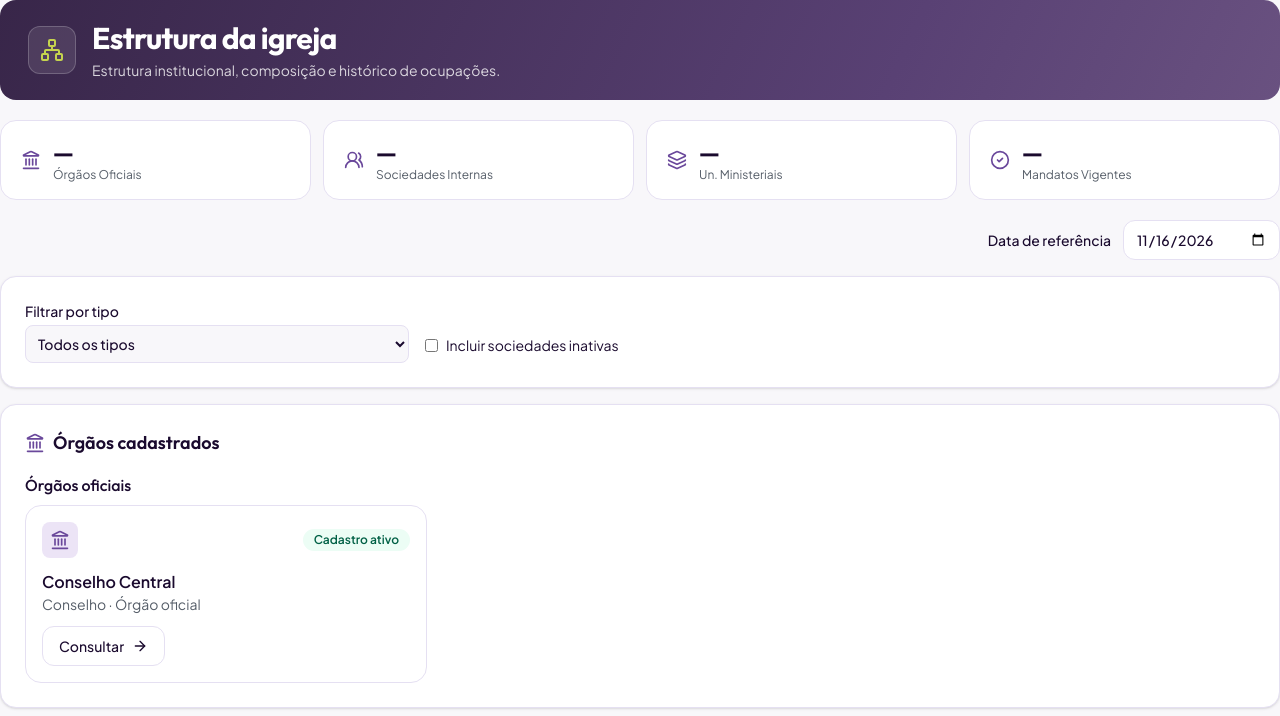
consulta de órgãos › mostra composição, revisão e histórico sem afirmar competência pelo cargo
Check: the text "Conselho Central" is shown, box [42, 571, 176, 592]
Check: the date field labelled "Data de referência" holds "2026-11-16", box [1123, 220, 1279, 260]
Click the button "Consultar": (104, 646) [42, 626, 165, 666]
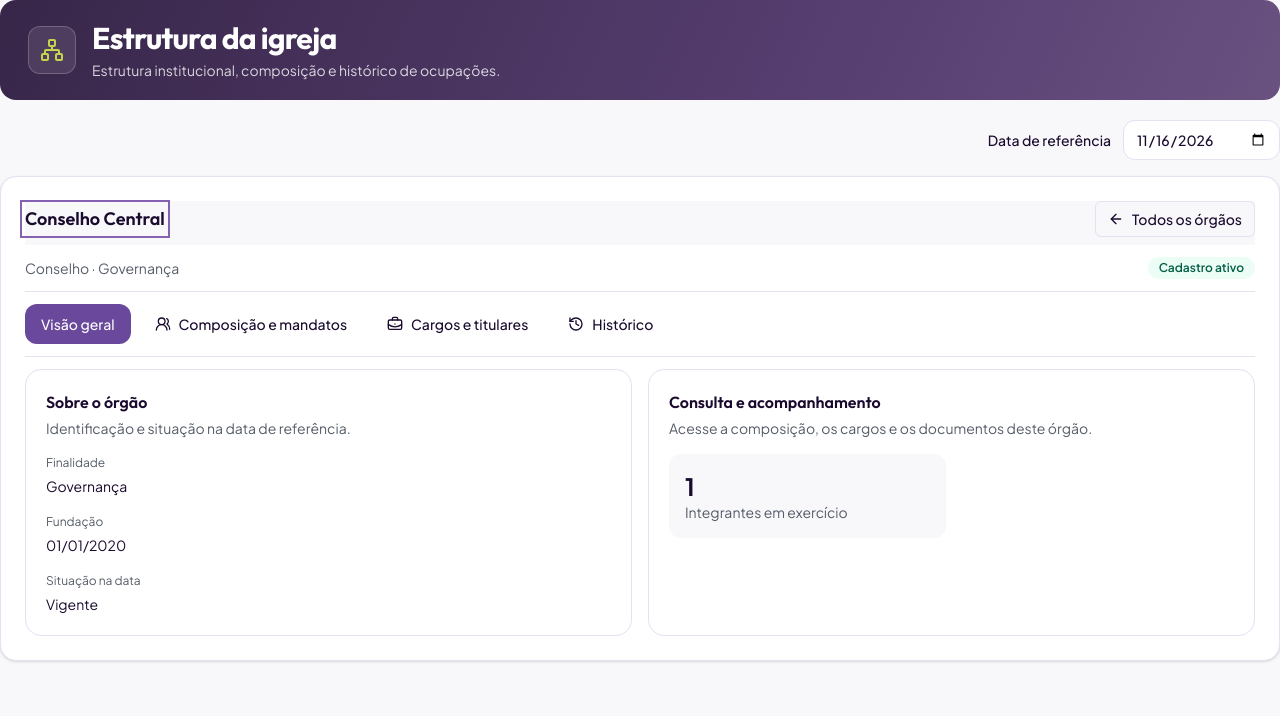
Click the button "Composição e mandatos": (251, 324) [138, 304, 363, 344]
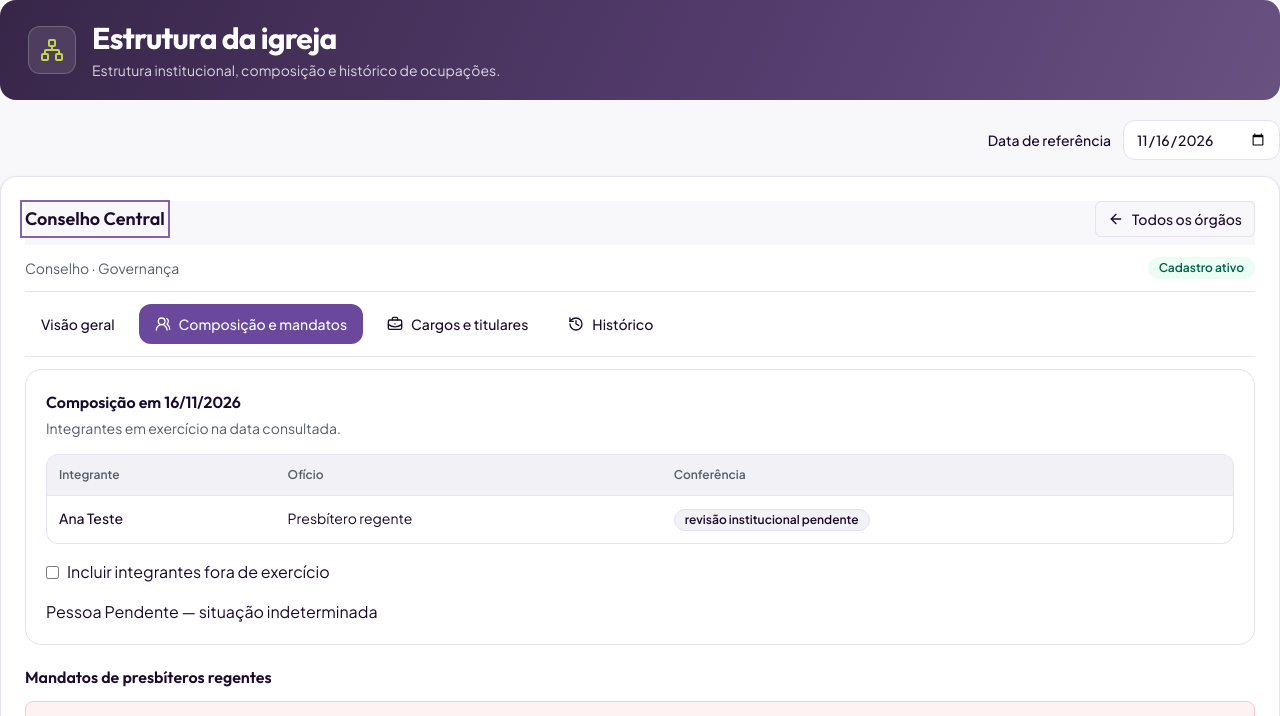
Check: the navigation bar named "Seções da ficha" is shown, box [25, 291, 1255, 357]
Check: the button "Histórico" is shown, box [552, 304, 669, 344]
Check: the table named "Composição do órgão" is shown, box [47, 455, 1233, 543]
Click the button "Visão geral": (78, 324) [25, 304, 130, 344]
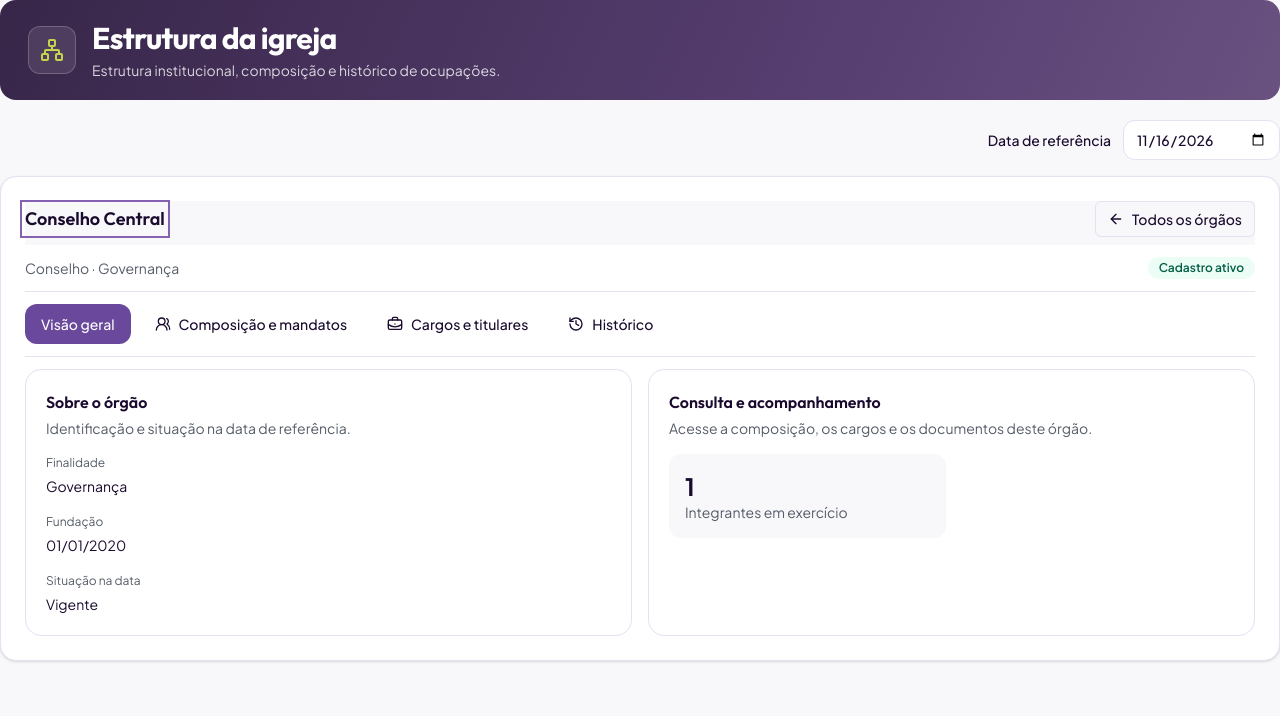
Click the button "Histórico": (611, 324) [552, 304, 669, 344]
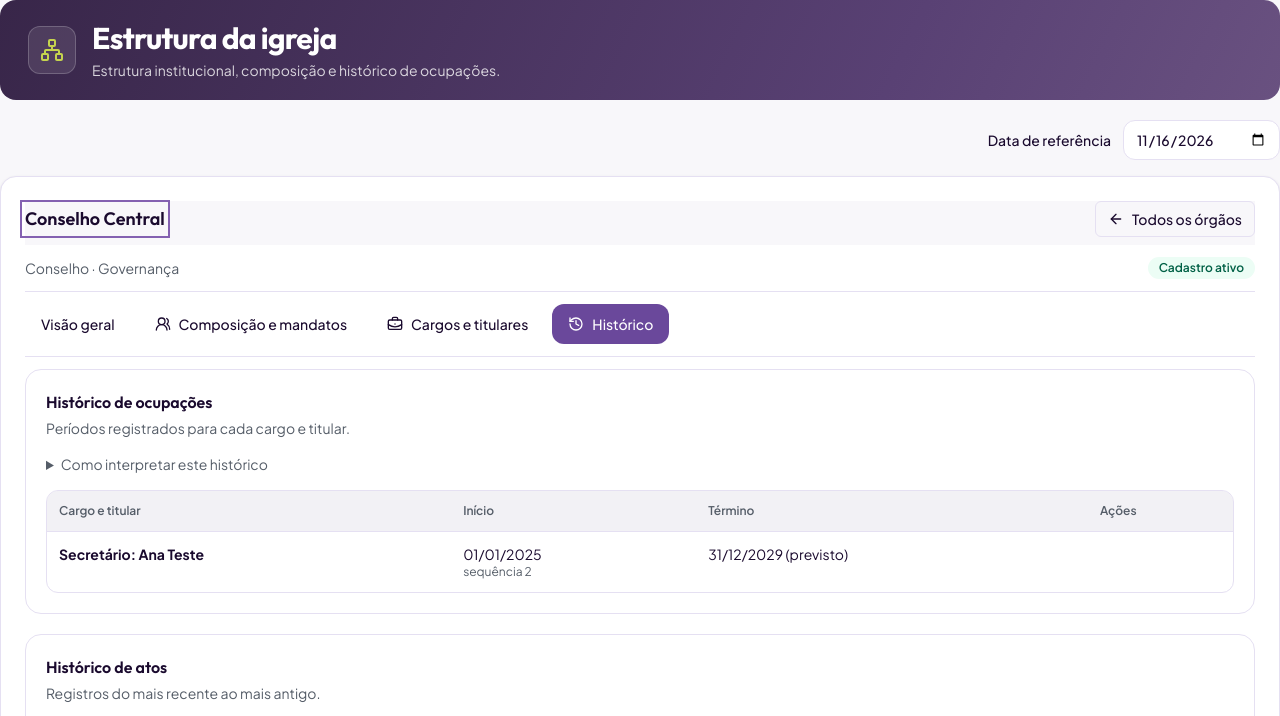
Check: the text "Secretário: Ana Teste" is shown, box [59, 545, 204, 563]
Check: the text "sequência 2" is shown, box [463, 564, 532, 579]
